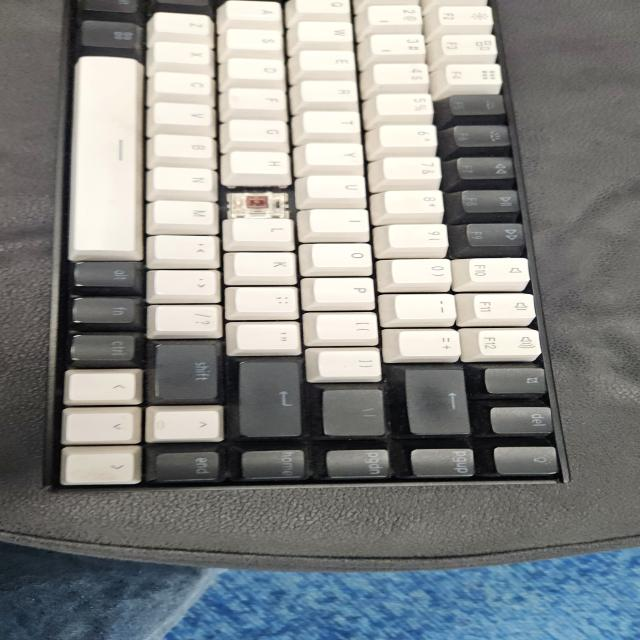C: (232, 193, 284, 218)
